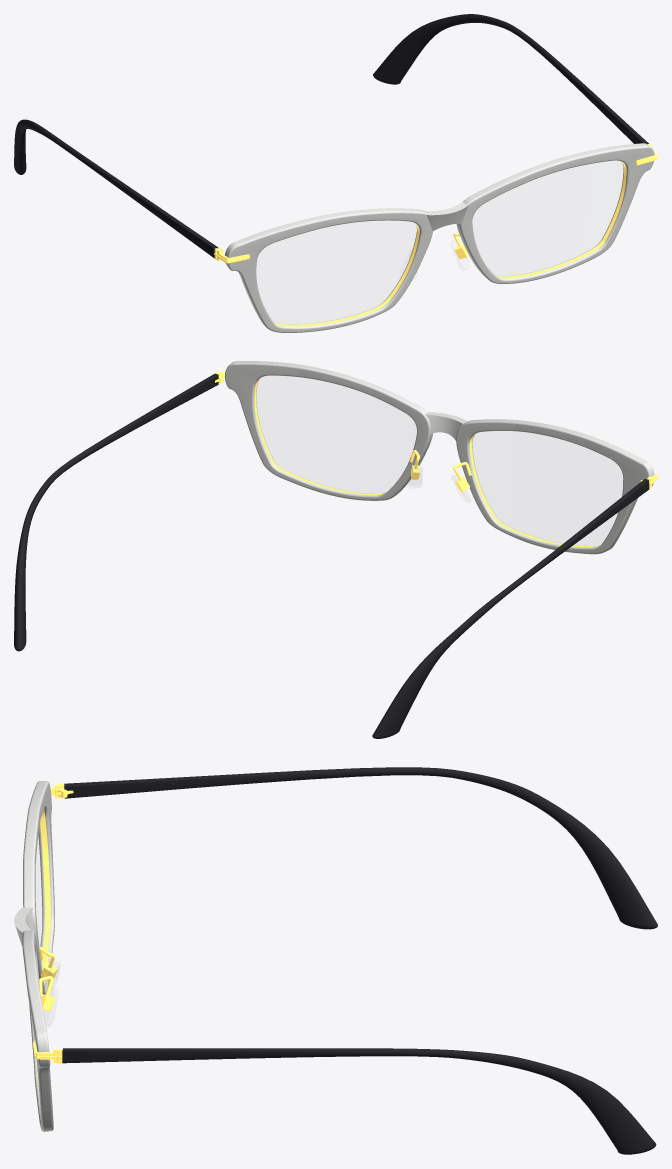
The model's file is bt_frame_b.glb.
3 views of the same model, one above another, from view 1: azimuth 30°, elevation 25°; view 2: azimuth 150°, elevation 25°; view 3: azimuth 270°, elevation 25° (orthographic). The views are drawn at different scales.
Parts seen in each view (by area): view 1: 999906; view 2: 999906; view 3: 999906.
Boxes of the visible parts, x1=… form: 999906: x1=14, y1=14, x2=657, y2=332; 999906: x1=14, y1=361, x2=657, y2=738; 999906: x1=14, y1=767, x2=657, y2=1154.
Bounding box in the file's own units: 0.16 × 0.0388 × 0.1534.
